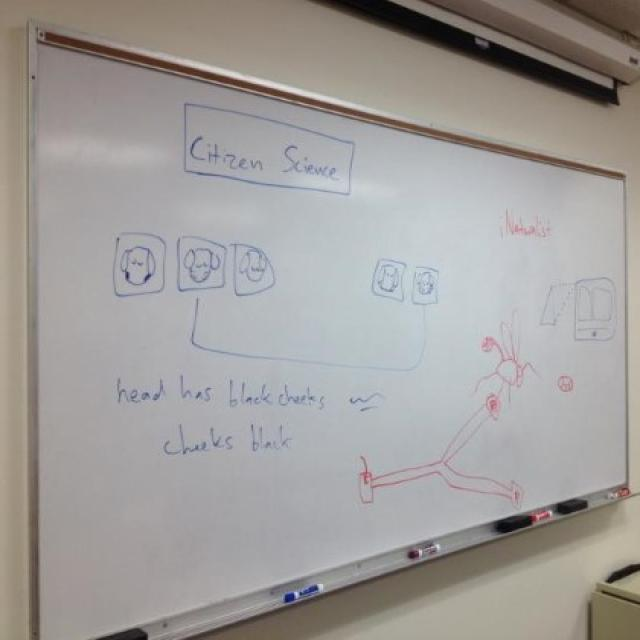White-board: (31, 32, 625, 640)
